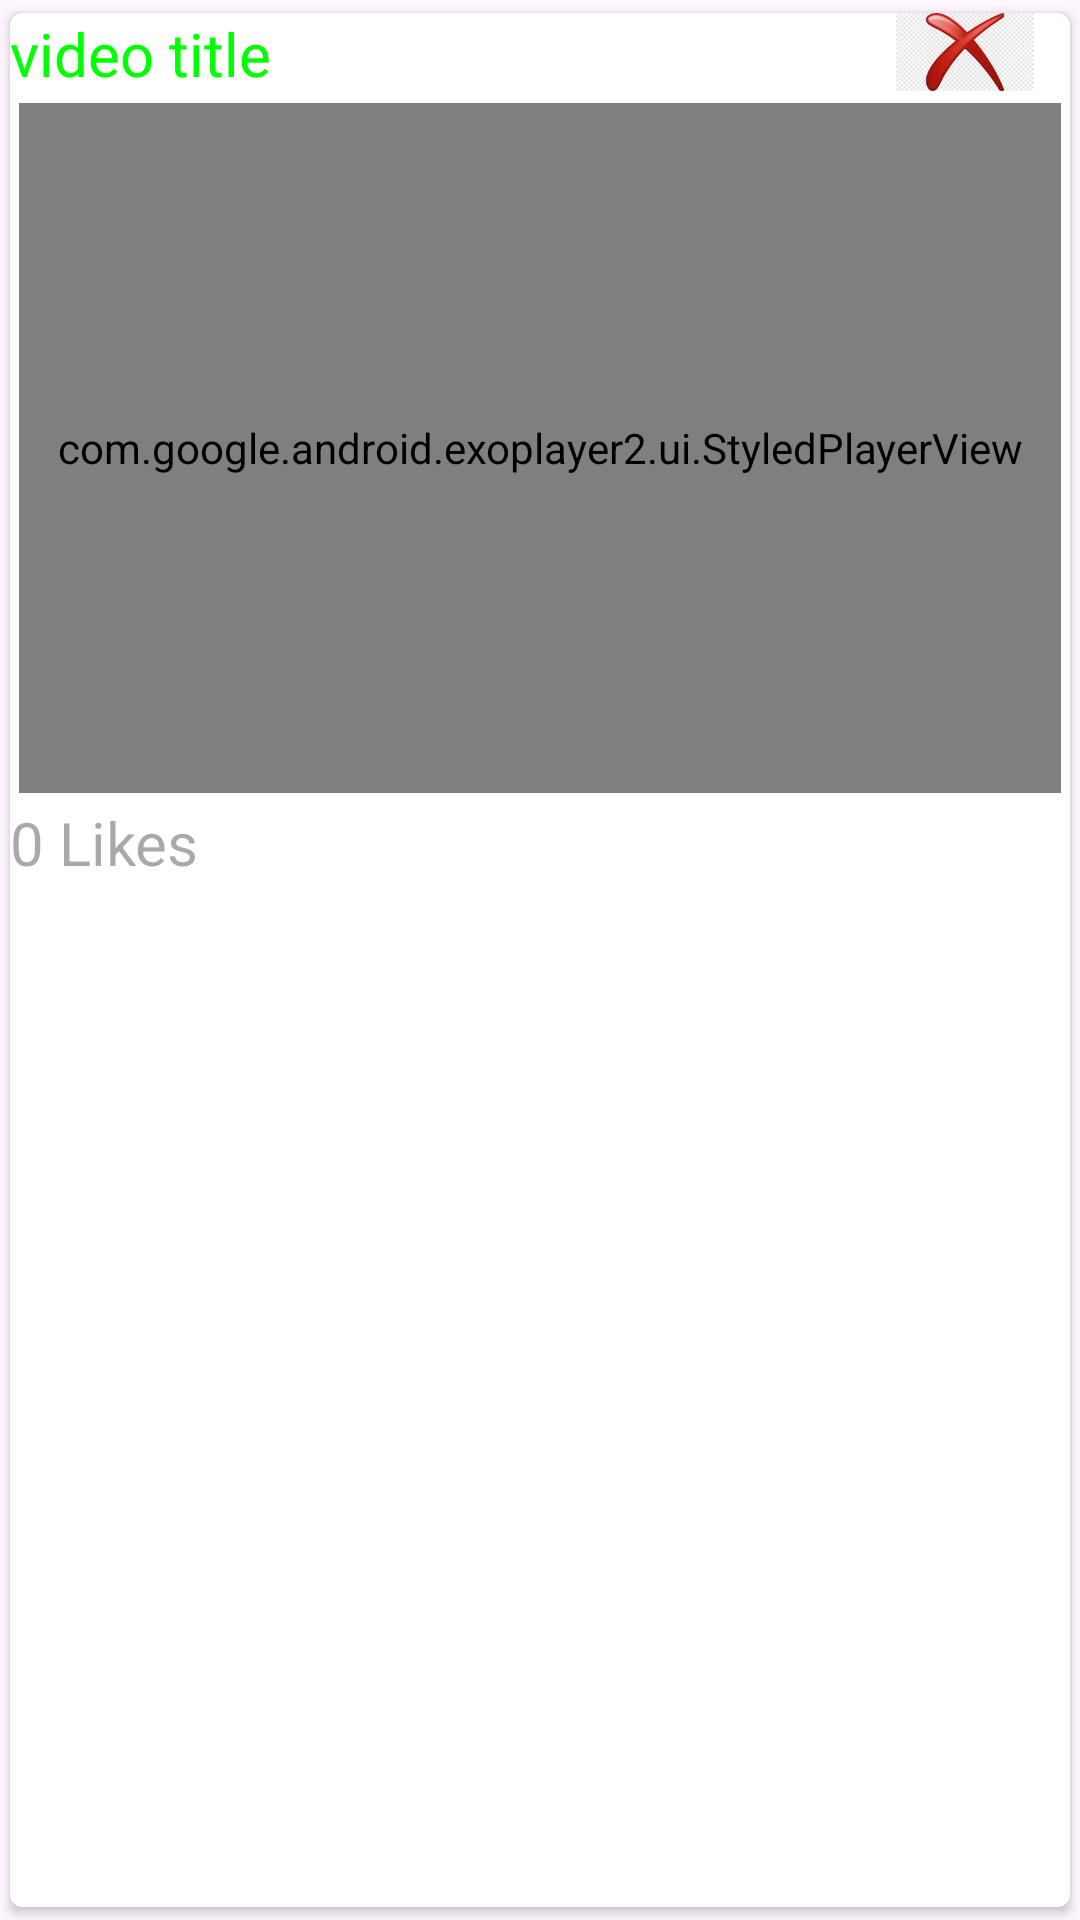

Icons on this 1080*1920 Android screen, each with the point to tap as (x,y):
delete: (983,52)
